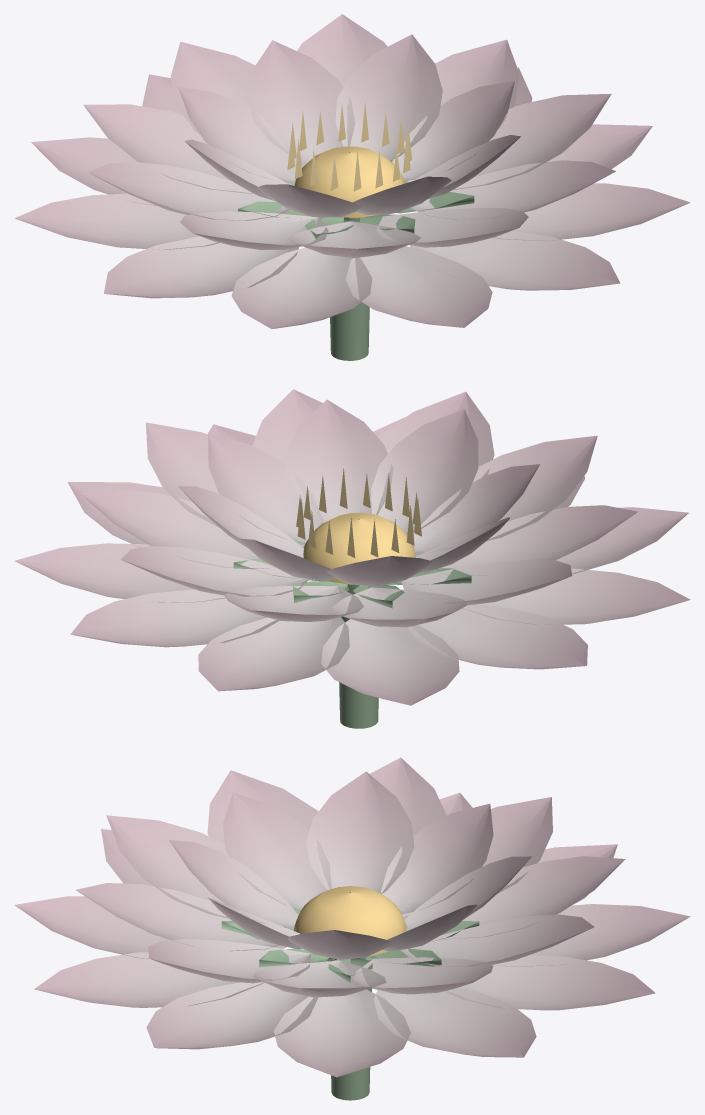
File: lotus_bloom_p012b_quality.glb
3 renders of one model, top to bottom at view 1: azimuth 30°, elevation 25°; view 2: azimuth 150°, elevation 25°; view 3: azimuth 270°, elevation 25°, orthographic.
Parts seen in each view (by area): view 1: lotus_bloom_p012b_root; view 2: lotus_bloom_p012b_root; view 3: lotus_bloom_p012b_root.
Part boxes in pixels (<box>): lotus_bloom_p012b_root: <box>14,14,690,360</box>; lotus_bloom_p012b_root: <box>14,389,690,728</box>; lotus_bloom_p012b_root: <box>14,757,690,1100</box>.
Bounding box in the file's own units: 0.7424 × 0.299 × 0.7457.
